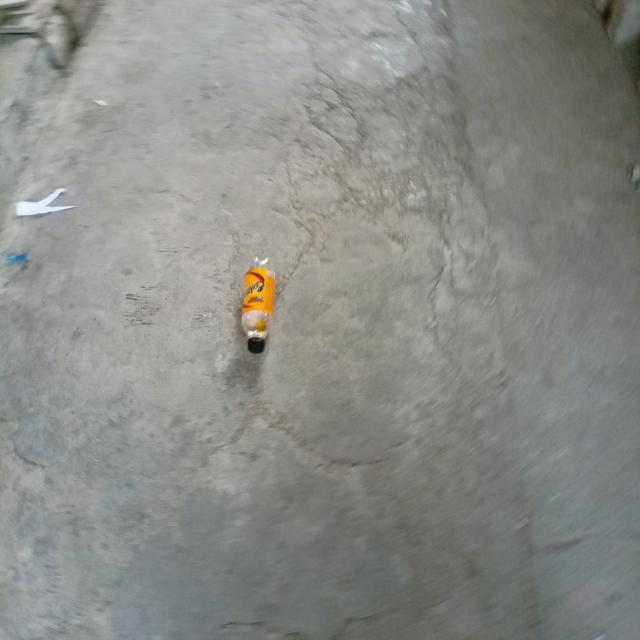Bottle: (242, 257, 276, 353)
